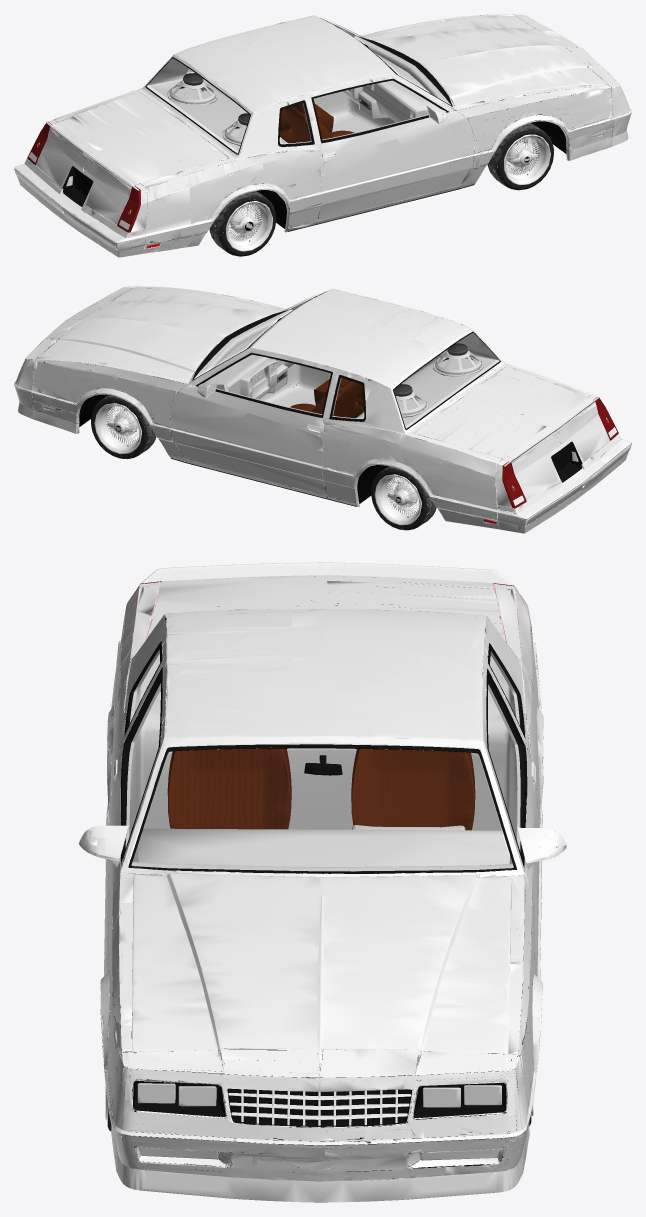
Rendered from lowrider_monte_runtime_rig.glb.
The picture shows the model from 3 angles, top to bottom: view 1: azimuth 30°, elevation 25°; view 2: azimuth 150°, elevation 25°; view 3: azimuth 270°, elevation 25°; orthographic projection. The views are drawn at different scales.
Parts seen in each view (by area): view 1: body_paint_0.003, hood, body, windows_glass_0, r888r_r888r_0.001, r888r_r888r_0, dash, underbody, taillights, Bolt.X8, seat2_interior_0, seat1_interior_0 (+1 smaller); view 2: body_paint_0.003, hood, body, windows_glass_0, r888r_r888r_0.004, r888r_r888r_0.002, dash, underbody, taillights, seat1_interior_0, Bolt.X8.002, Bolt.X8 (+1 smaller); view 3: body_paint_0.003, hood, windows_glass_0, body, dash, seat2_interior_0, seat1_interior_0, spojler, details_glass_lights_0, grille, underbody, details_plastic_0.
Boxes of the visible parts, bbox=[...] form: body_paint_0.003: bbox=[14, 14, 631, 257]; hood: bbox=[364, 15, 607, 106]; body: bbox=[14, 18, 631, 249]; windows_glass_0: bbox=[149, 23, 450, 150]; r888r_r888r_0.001: bbox=[487, 123, 553, 190]; r888r_r888r_0: bbox=[209, 188, 276, 256]; dash: bbox=[341, 52, 451, 122]; underbody: bbox=[218, 87, 613, 231]; taillights: bbox=[27, 122, 140, 232]; Bolt.X8: bbox=[167, 73, 217, 105]; seat2_interior_0: bbox=[284, 99, 354, 142]; seat1_interior_0: bbox=[280, 103, 333, 143]; body_paint_0.003: bbox=[14, 286, 631, 533]; hood: bbox=[38, 288, 283, 380]; body: bbox=[14, 291, 631, 525]; windows_glass_0: bbox=[193, 295, 496, 425]; r888r_r888r_0.004: bbox=[91, 395, 156, 459]; r888r_r888r_0.002: bbox=[371, 466, 437, 530]; dash: bbox=[204, 327, 294, 399]; underbody: bbox=[32, 340, 428, 506]; taillights: bbox=[502, 397, 618, 508]; seat1_interior_0: bbox=[290, 378, 361, 417]; Bolt.X8.002: bbox=[433, 343, 483, 376]; Bolt.X8: bbox=[394, 384, 428, 417]; body_paint_0.003: bbox=[79, 575, 566, 1181]; hood: bbox=[132, 873, 510, 1053]; windows_glass_0: bbox=[124, 619, 522, 870]; body: bbox=[100, 613, 543, 1202]; dash: bbox=[138, 825, 509, 877]; seat2_interior_0: bbox=[167, 748, 291, 829]; seat1_interior_0: bbox=[351, 749, 475, 830]; spojler: bbox=[140, 562, 513, 585]; details_glass_lights_0: bbox=[137, 1083, 501, 1160]; grille: bbox=[226, 1089, 413, 1127]; underbody: bbox=[112, 714, 532, 1180]; details_plastic_0: bbox=[112, 759, 536, 1108].
Size of the model in its own units: 4.25 by 1.07 by 1.69.
Materials: 35 (10 with a texture image).
